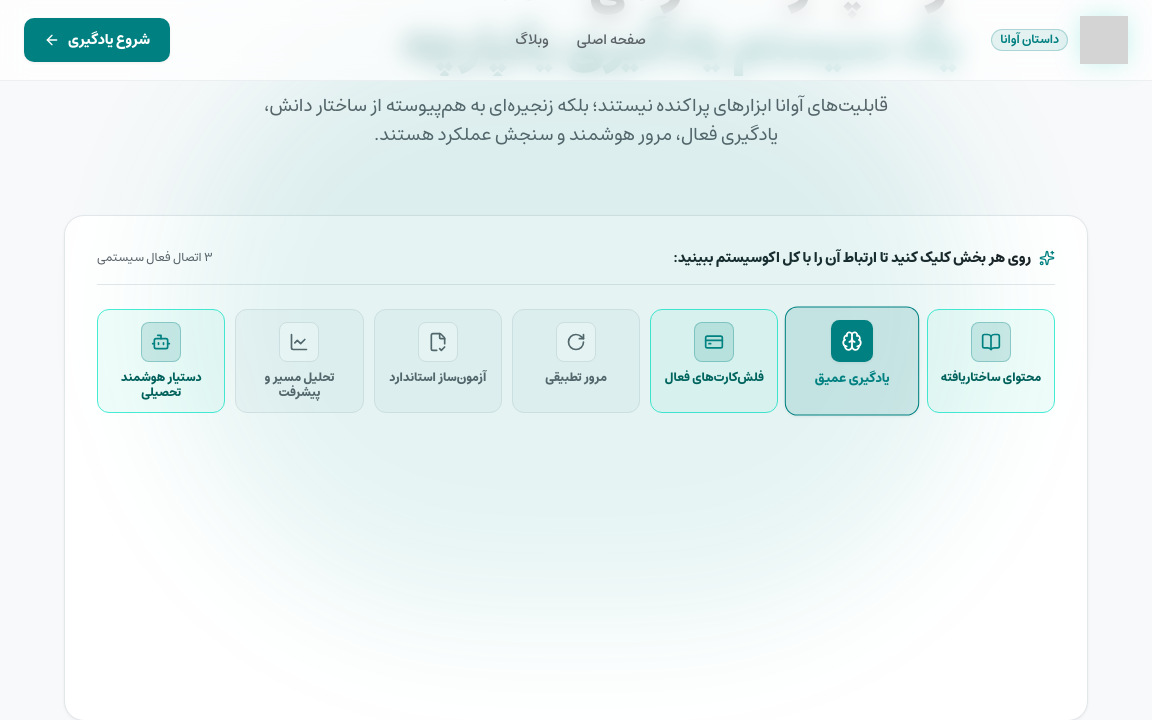
Test: AboutPage (صفحه درباره ما) Complete Narrative Experience Suite › 6. Section 5: Ecosystem Nodes selection and interconnection highlight
(page scrolled)
Select AI Assistant node
Click the tab "دستیار هوشمند تحصیلی": (161, 360) [97, 308, 225, 412]
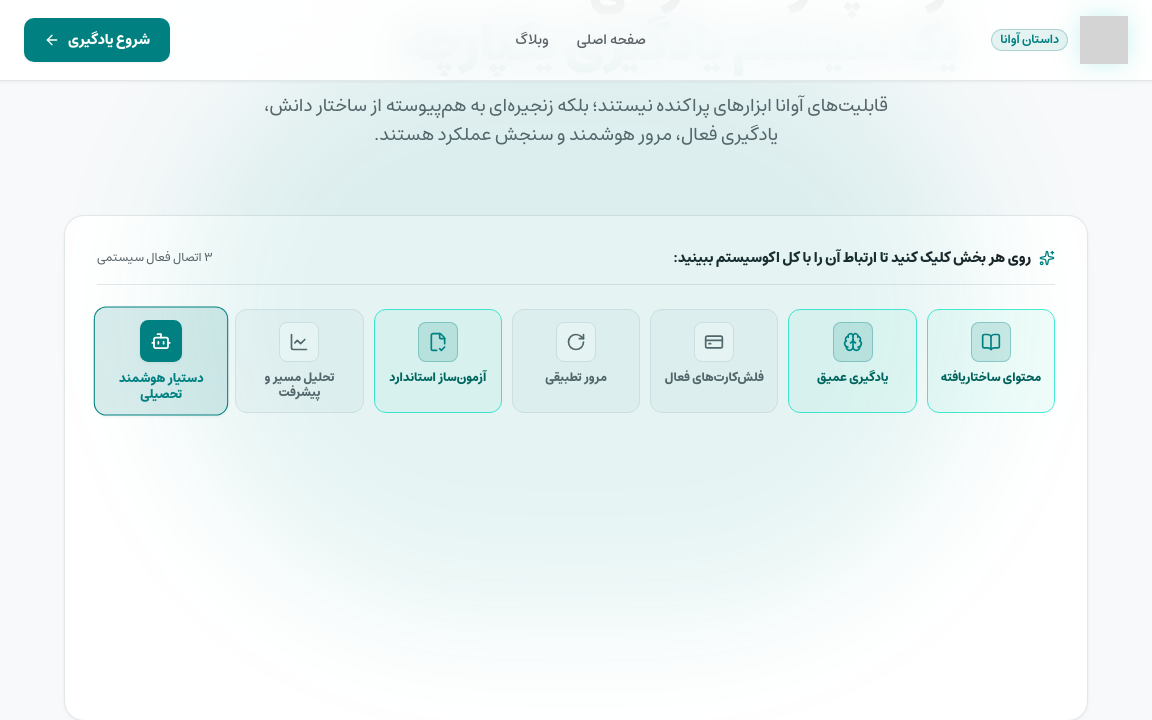
Select Spaced Review node
Click the tab "مرور تطبیقی": (576, 360) [512, 308, 640, 412]
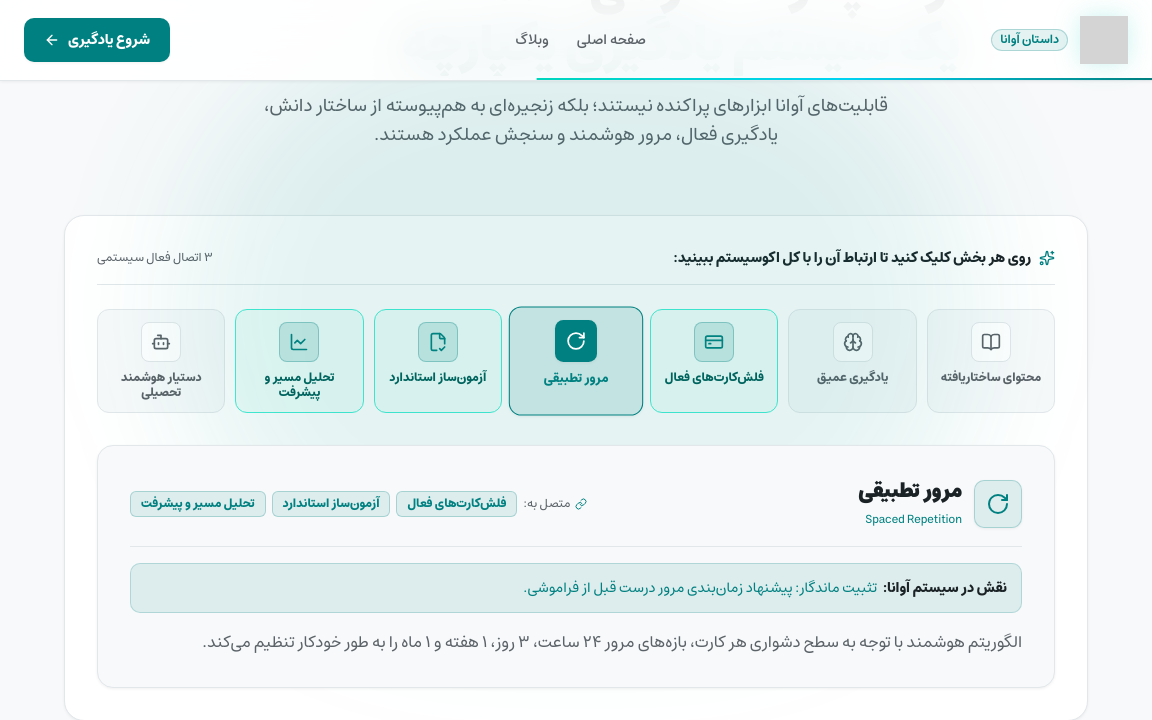
Result: the text "پیشنهاد زمان‌بندی مرور درست قبل از فراموشی" is shown at [523, 576, 877, 600]
